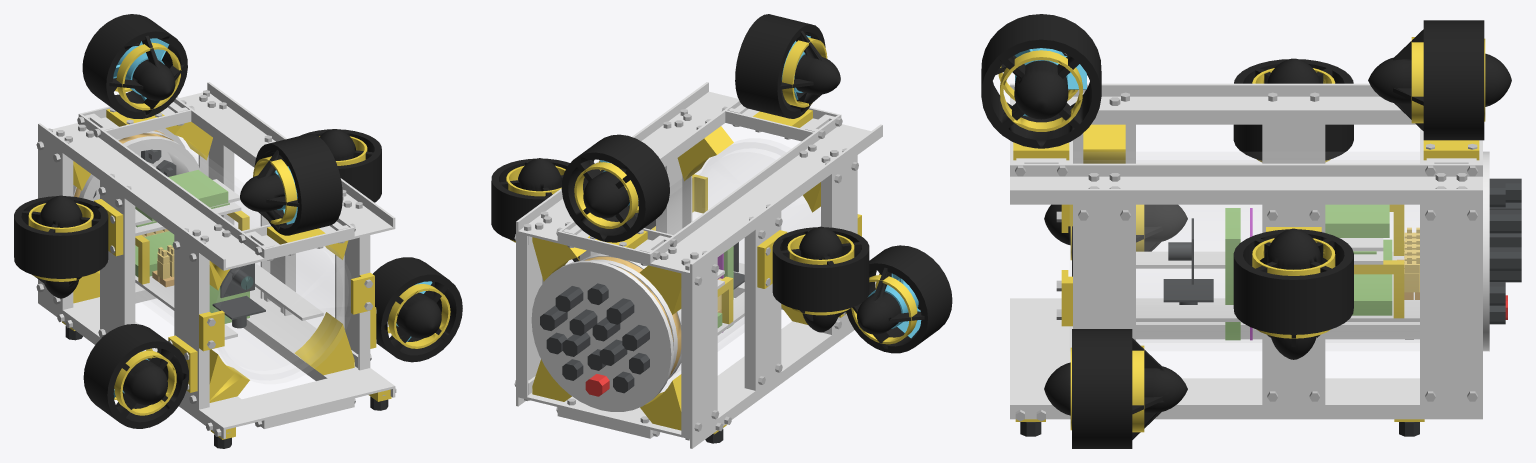
File: rov_reduced.glb
3 views of the same model, side by side, from view 1: azimuth 30°, elevation 25°; view 2: azimuth 150°, elevation 25°; view 3: azimuth 270°, elevation 25° (orthographic). The views are drawn at different scales.
Parts seen in each view (by area): view 1: Acrylic; view 2: Acrylic; view 3: Acrylic.
Boxes of the visible parts, box(x1,y1,x2,y2) form: Acrylic: box(14, 14, 462, 448); Acrylic: box(491, 14, 952, 448); Acrylic: box(981, 14, 1521, 448).
Size of the model in its own units: 0.3979 by 0.3005 by 0.411.
